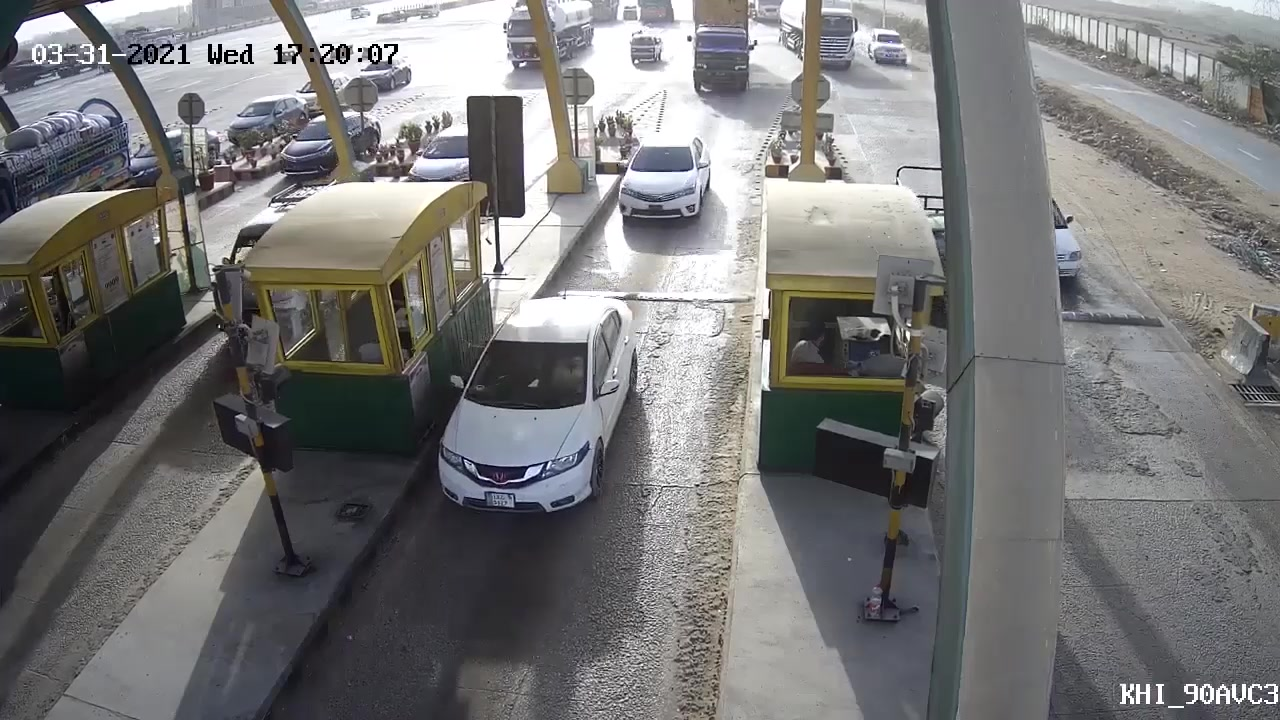F1: (418, 286, 651, 539)
